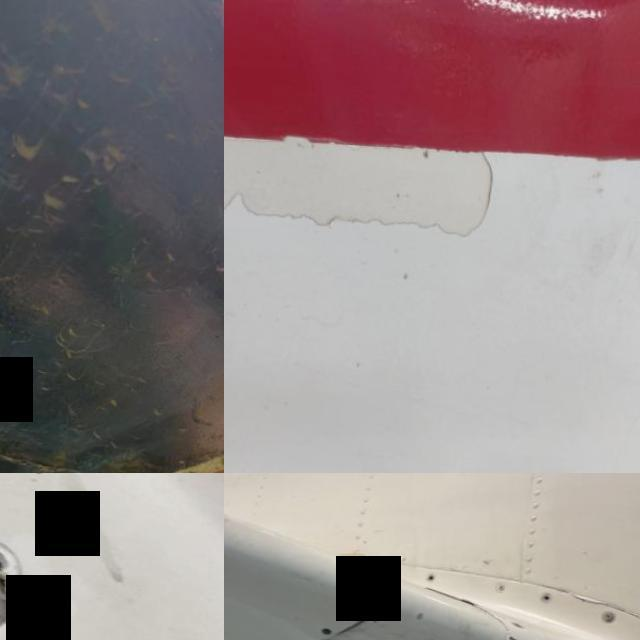Crack: (224, 105, 504, 290), (0, 473, 49, 640), (564, 582, 630, 604), (502, 623, 533, 640), (452, 590, 487, 604)
Dent: (151, 154, 224, 421)
Missing_Fastener: (540, 586, 558, 600), (318, 624, 334, 635), (426, 566, 439, 578), (384, 565, 396, 571)
